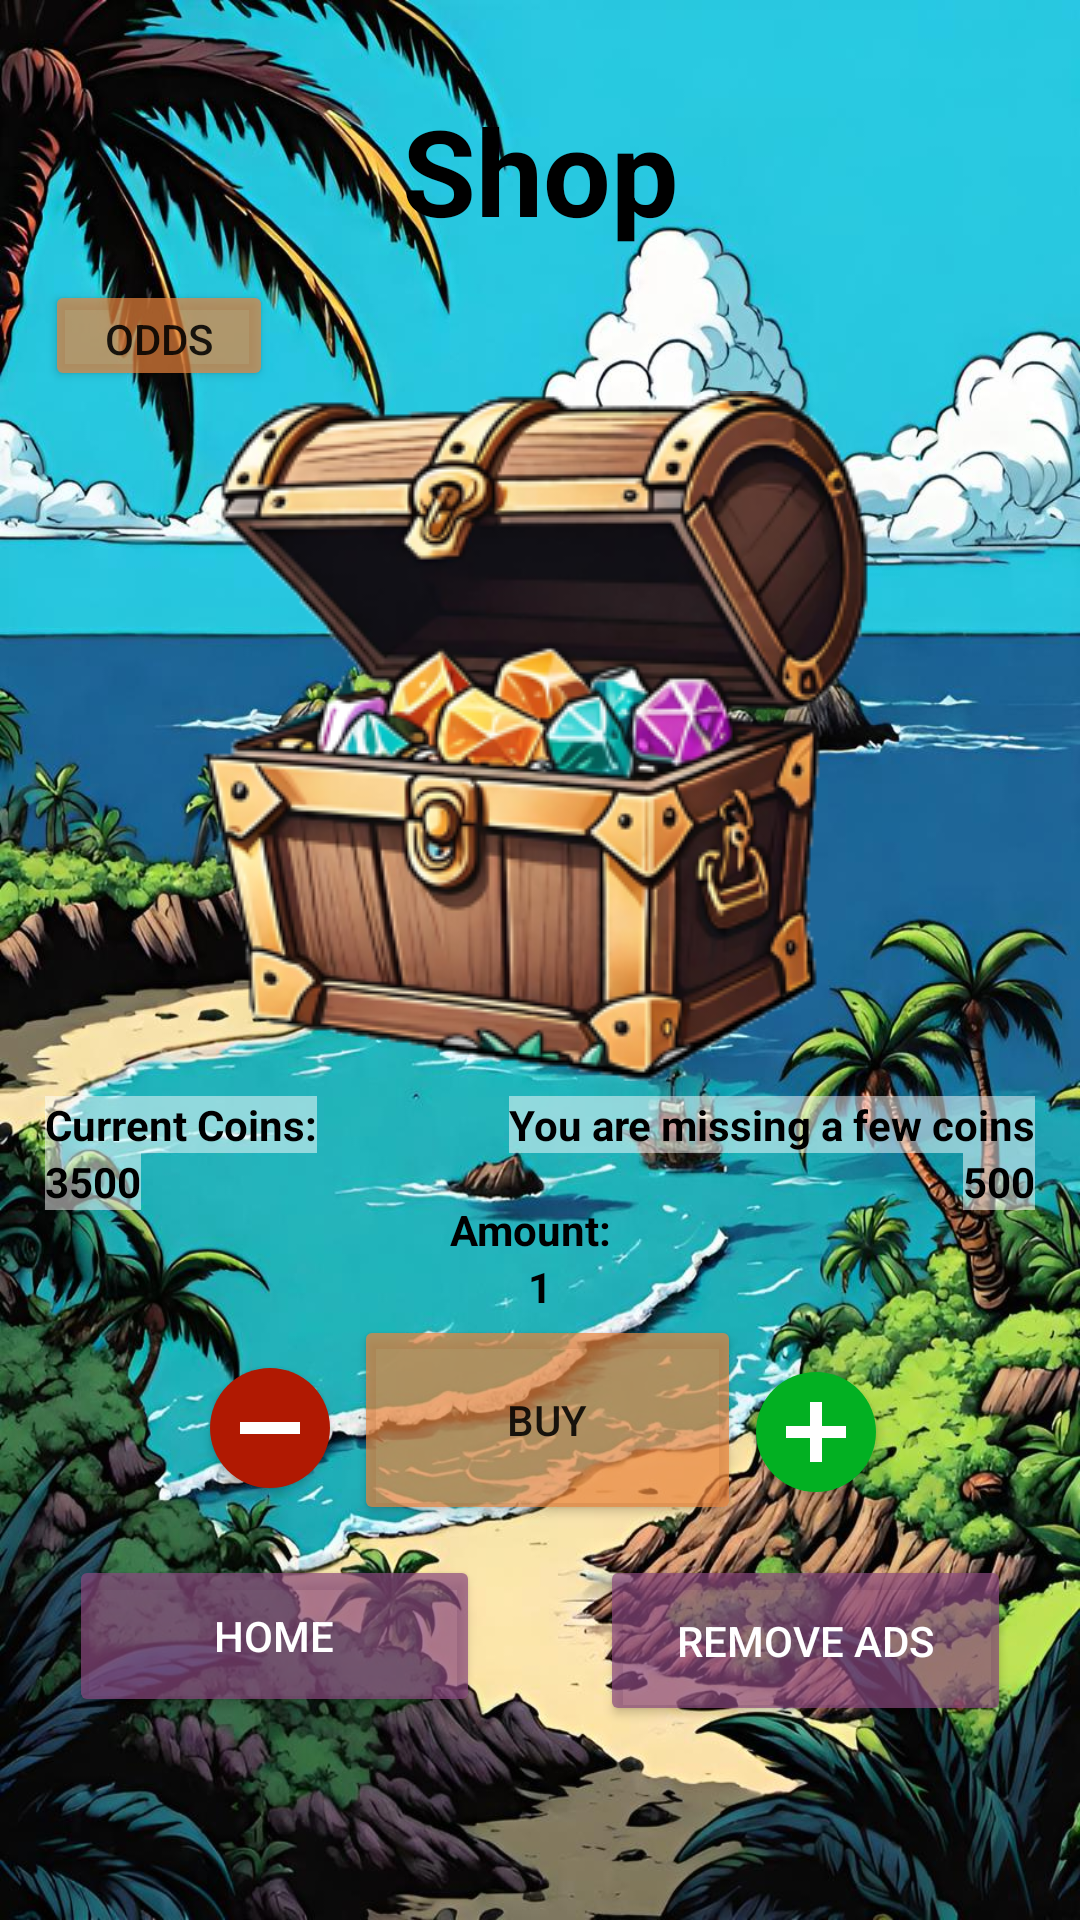

Icon click points for this 1080×1920 phone screenshot, format (x=x, y=y):
circleminus: (x=270, y=1428)
circleplus: (x=816, y=1432)
